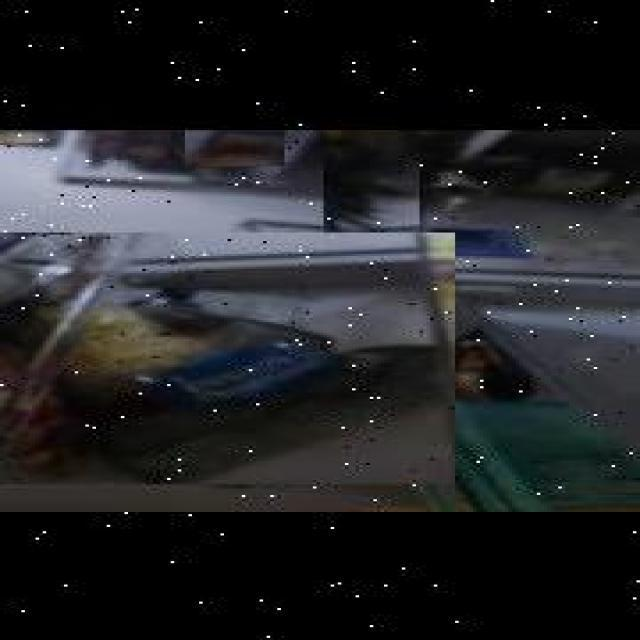egg: (0, 238, 50, 278), (0, 218, 57, 248), (0, 275, 46, 299)
grated_cheese: (0, 231, 455, 482)
humus: (186, 128, 286, 164), (86, 128, 182, 160)
mayonaise: (0, 128, 85, 141)
pineapple: (324, 128, 419, 233)
